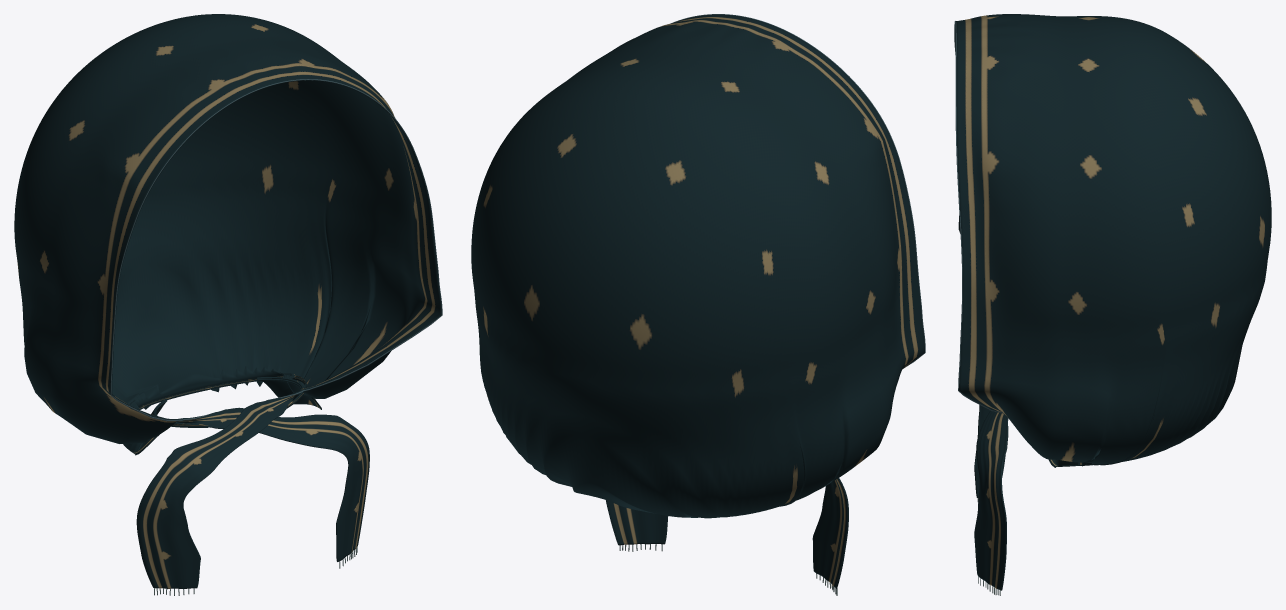
File: Masculine-Masculine-taper-tank-pashmina250-headgear-577bc44d.glb
3 views of the same model, side by side, from view 1: azimuth 30°, elevation 25°; view 2: azimuth 150°, elevation 25°; view 3: azimuth 270°, elevation 25° (orthographic). The views are drawn at different scales.
Visible parts, largest first — view 1: 226 headgear / Headwear / continuous woven pashmina239, 226 headgear / Headwear / face edge239; view 2: 226 headgear / Headwear / continuous woven pashmina239, 226 headgear / Headwear / face edge239; view 3: 226 headgear / Headwear / continuous woven pashmina239, 226 headgear / Headwear / face edge239.
Boxes of the visible parts, bbox=[...] form: 226 headgear / Headwear / continuous woven pashmina239: bbox=[14, 14, 441, 588]; 226 headgear / Headwear / face edge239: bbox=[110, 79, 442, 421]; 226 headgear / Headwear / continuous woven pashmina239: bbox=[471, 14, 924, 588]; 226 headgear / Headwear / face edge239: bbox=[671, 14, 925, 368]; 226 headgear / Headwear / continuous woven pashmina239: bbox=[954, 14, 1271, 590]; 226 headgear / Headwear / face edge239: bbox=[954, 21, 1003, 413].
Bounding box in the file's own units: 0.8786 × 1.22 × 0.681.
3 materials, 1 textured.
